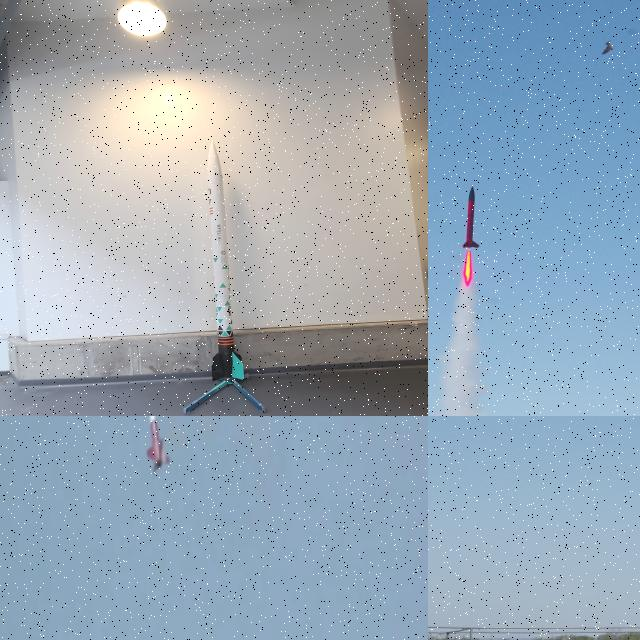Rocket: (207, 140, 244, 381), (139, 416, 172, 477), (462, 186, 480, 248)
